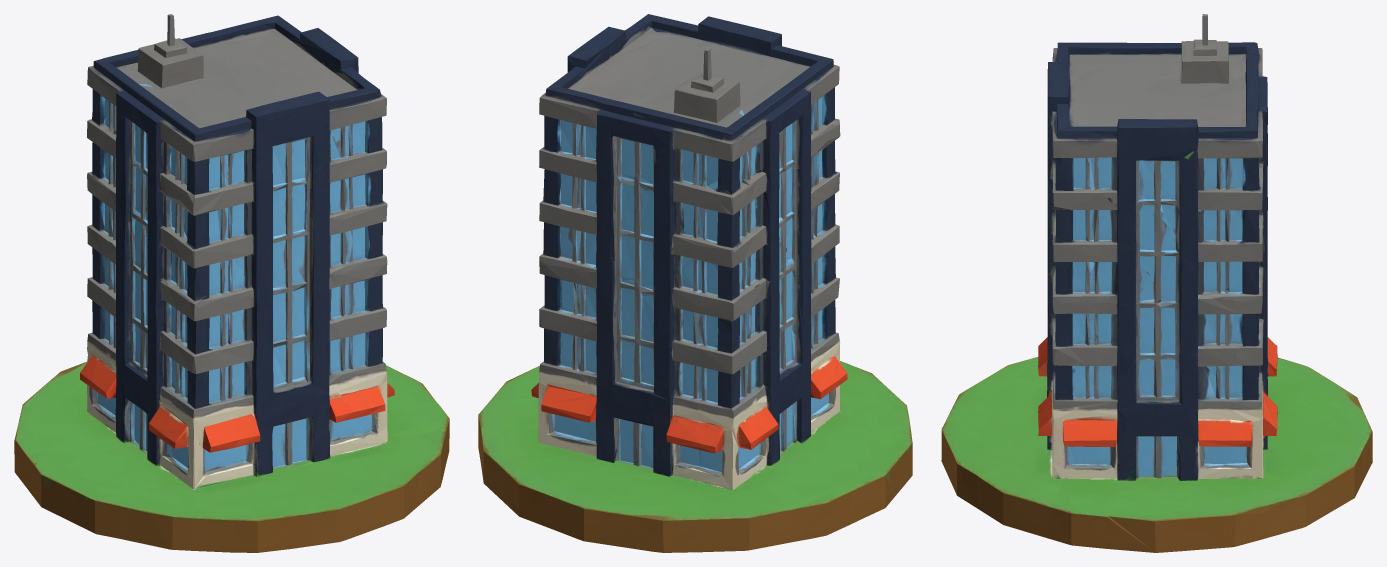
The model's file is rio-predio-comercial.glb.
The picture shows the model from 3 angles, left to right: view 1: azimuth 30°, elevation 25°; view 2: azimuth 150°, elevation 25°; view 3: azimuth 270°, elevation 25°; orthographic projection. The views are drawn at different scales.
Parts seen in each view (by area): view 1: tripo_node_0158cd25-c573-42cb-841d-707ad5db8820; view 2: tripo_node_0158cd25-c573-42cb-841d-707ad5db8820; view 3: tripo_node_0158cd25-c573-42cb-841d-707ad5db8820.
Boxes of the visible parts, x1=… form: tripo_node_0158cd25-c573-42cb-841d-707ad5db8820: x1=14, y1=14, x2=449, y2=552; tripo_node_0158cd25-c573-42cb-841d-707ad5db8820: x1=478, y1=14, x2=912, y2=552; tripo_node_0158cd25-c573-42cb-841d-707ad5db8820: x1=941, y1=14, x2=1372, y2=552.
Bounding box in the file's own units: 0.9073 × 0.9998 × 0.9078.
1 material, 1 textured.
